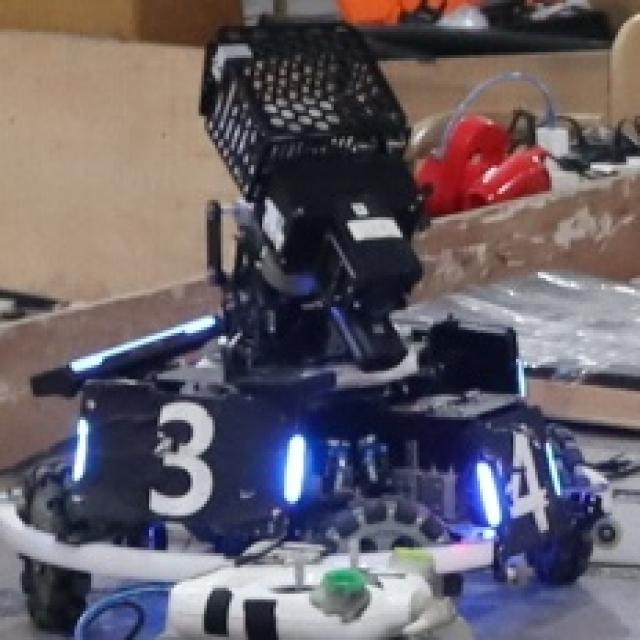B3: (72, 391, 306, 521)
B4: (474, 426, 563, 533)
